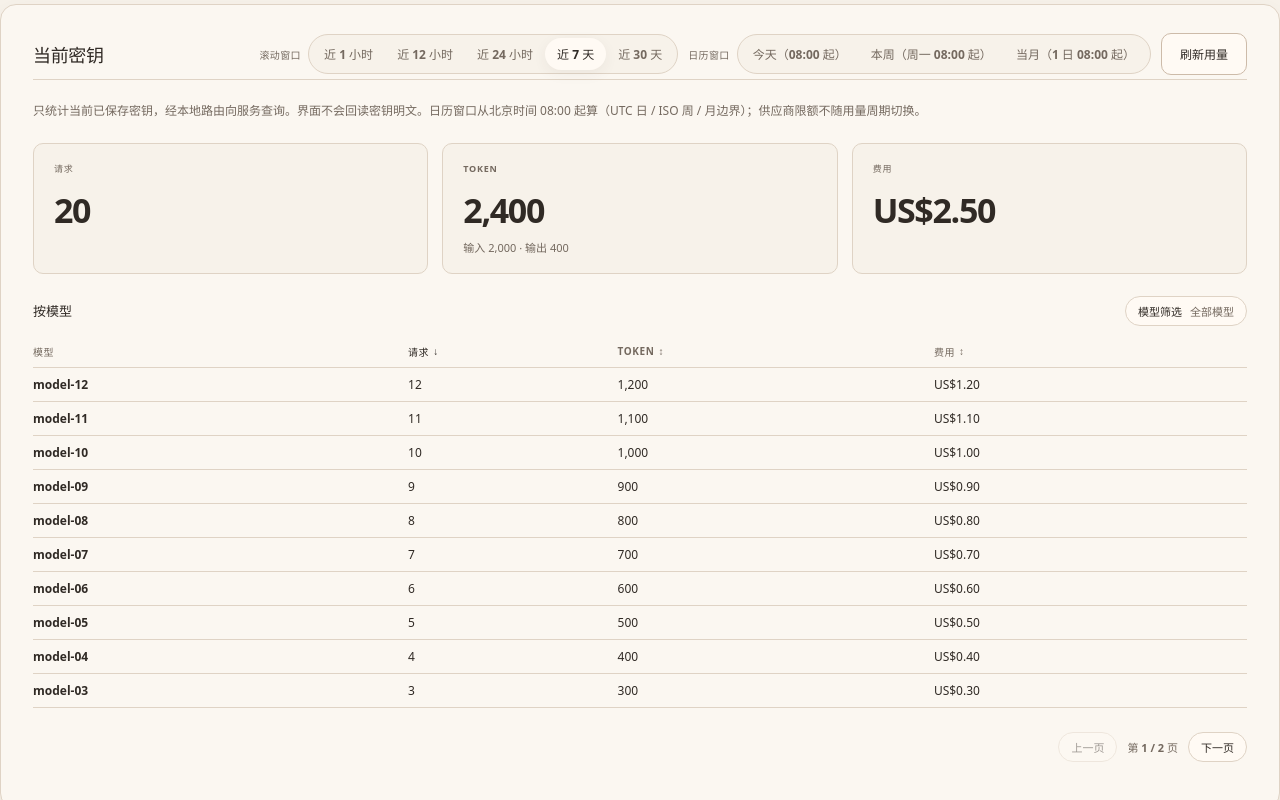
Test: UsagePage › paginates the model table at ten rows and keeps the table frame fixed
This screenshot has width=1280, height=800.
Expected: the column heading "model-12" is shown, [33,367,408,401]
Expected: the text "第 1 / 2 页" is shown, [1127,739,1178,755]
Click the button "下一页": (1218, 747) [1188,732,1247,762]
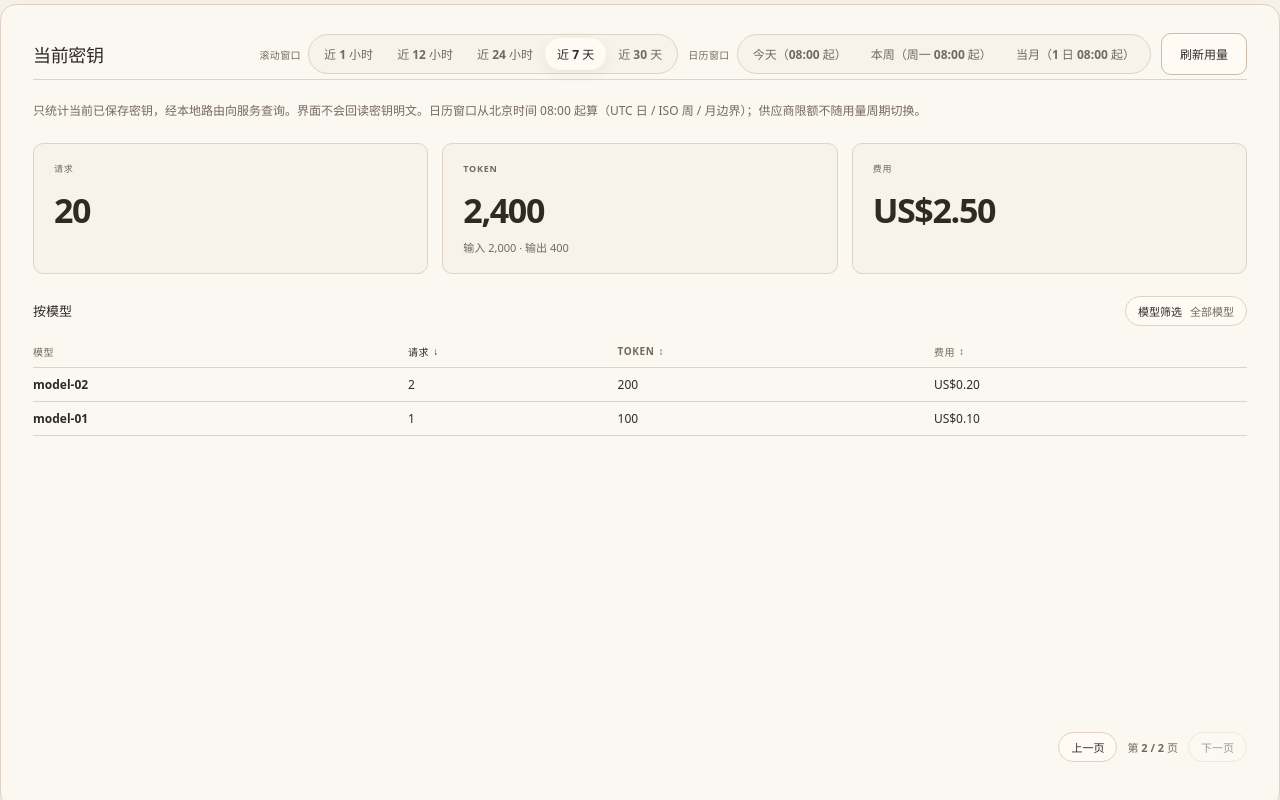
Result: the text "第 2 / 2 页" is shown at [1127,739,1178,755]
Result: the button "下一页" is disabled at [1188,732,1247,762]
Result: the button "上一页" is enabled
Click the button "上一页": (1088, 747) [1058,732,1117,762]
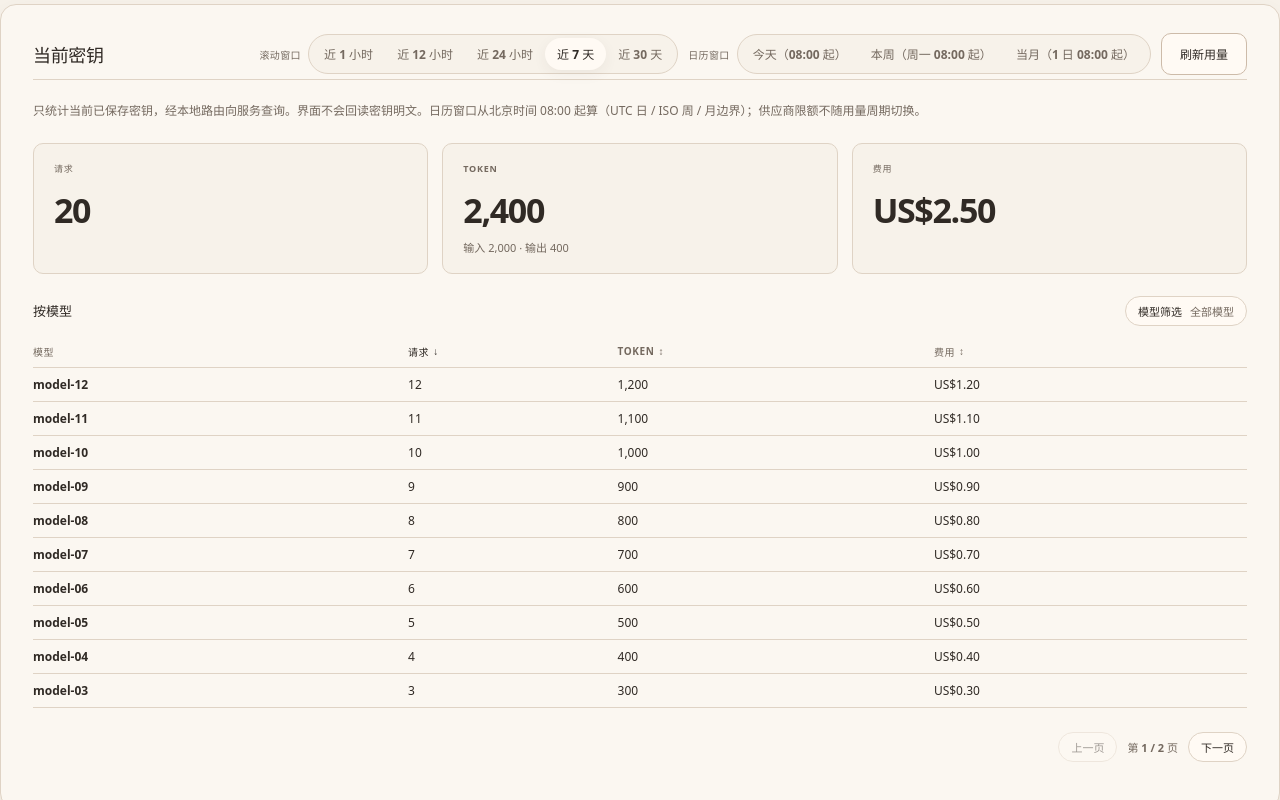
Result: the text "第 1 / 2 页" is shown at [1127,739,1178,755]
Result: the column heading "model-12" is shown at [33,367,408,401]
